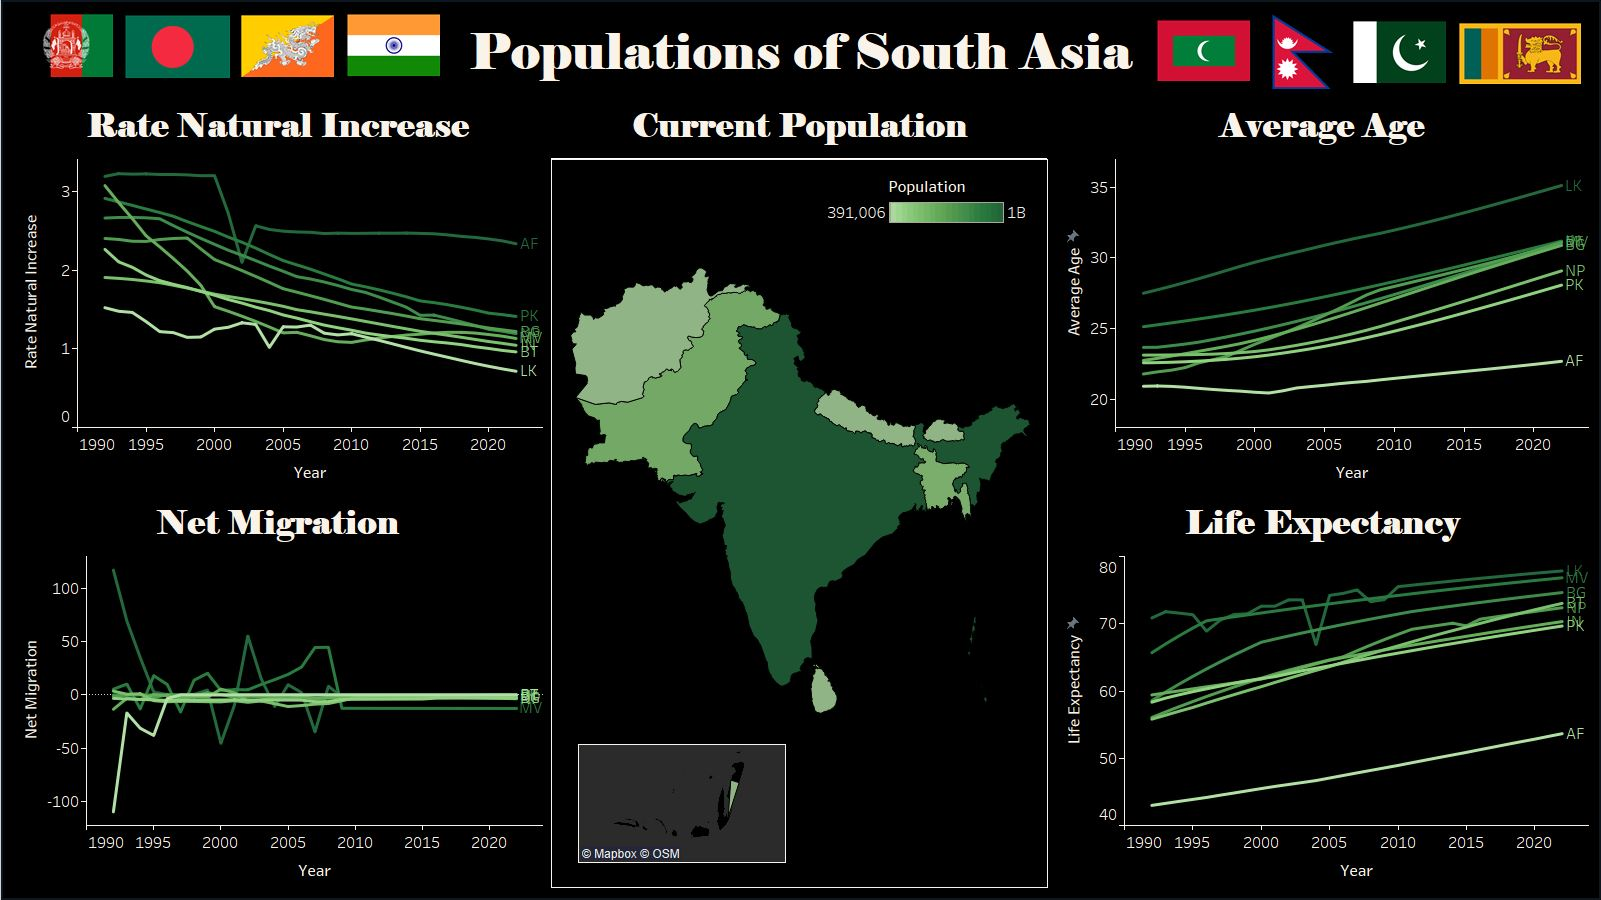

This screenshot's page, from the dashboard's own definition file:
{"tool":"tableau","page":{"name":"Dashboard 1","canvas":[1600,900],"ordinal":0},"visuals":[{"type":"title","box":[8,8,1584,89]},{"type":"image","param":"C:/Users/Student/Documents/UVA/4th Year/Spring 2023/STAT 3280/Final Project/Flag","box":[124,8,105,77]},{"type":"image","param":"C:/Users/Student/Documents/UVA/4th Year/Spring 2023/STAT 3280/Final Project/Flag","box":[1458,10,122,87]},{"type":"image","param":"C:/Users/Student/Documents/UVA/4th Year/Spring 2023/STAT 3280/Final Project/Flag","box":[11,14,109,63]},{"type":"image","param":"C:/Users/Student/Documents/UVA/4th Year/Spring 2023/STAT 3280/Final Project/Flag","box":[343,14,100,62]},{"type":"image","param":"C:/Users/Student/Documents/UVA/4th Year/Spring 2023/STAT 3280/Final Project/Flag","box":[1254,14,96,75]},{"type":"image","param":"C:/Users/Student/Documents/UVA/4th Year/Spring 2023/STAT 3280/Final Project/Flag","box":[223,15,127,62]},{"type":"image","param":"C:/Users/Student/Documents/UVA/4th Year/Spring 2023/STAT 3280/Final Project/Flag","box":[1351,21,95,62]},{"type":"worksheet","title":"Rate Natural Increase","mark":"Automatic","rows":["rate_natural_increase"],"cols":["year"],"box":[8,97,538,397.5]},{"type":"worksheet","title":"2022 Population Map","mark":"Automatic","box":[546,97,505,795]},{"type":"worksheet","title":"Average Age","mark":"Automatic","rows":["avg_age"],"cols":["year"],"box":[1051,97,541,397.5]},{"type":"legend","title":"2022 Population Map","param":"[federated.1oxksea1j6bkw51aqji2k0wy8fbf].[sum:midyear_population:qk]","box":[822,176,208,70]},{"type":"worksheet","title":"Net Migration","mark":"Automatic","rows":["net_migration"],"cols":["year"],"box":[8,494.5,538,397.5]},{"type":"worksheet","title":"Life Expectancy","mark":"Automatic","rows":["life_expectancy"],"cols":["year"],"box":[1051,494.5,541,397.5]},{"type":"worksheet","title":"2022 Population Map (Maldives)","mark":"Automatic","box":[577,744,208,119]}]}

Visuals, with their boxes in screenshot pixels (x1, y1, x2, y2), scaled from the page's 1600x900 canvas onto the 1601x900 screenshot:
title: crop(8, 8, 1593, 97)
image: crop(124, 8, 229, 85)
image: crop(1459, 10, 1581, 97)
image: crop(11, 14, 120, 77)
image: crop(343, 14, 443, 76)
image: crop(1255, 14, 1351, 89)
image: crop(223, 15, 350, 77)
image: crop(1352, 21, 1447, 83)
"Rate Natural Increase" worksheet: crop(8, 97, 546, 494)
"2022 Population Map" worksheet: crop(546, 97, 1052, 892)
"Average Age" worksheet: crop(1052, 97, 1593, 494)
"2022 Population Map" legend: crop(823, 176, 1031, 246)
"Net Migration" worksheet: crop(8, 494, 546, 892)
"Life Expectancy" worksheet: crop(1052, 494, 1593, 892)
"2022 Population Map (Maldives)" worksheet: crop(577, 744, 785, 863)
